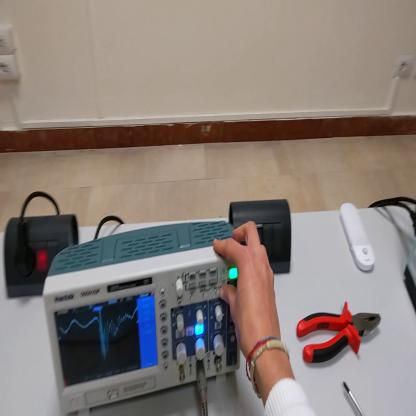hand: (214, 221, 284, 360)
oscilloscope: (47, 219, 243, 414)
pliers: (297, 304, 381, 369)
screwdriver-: (344, 383, 366, 414)
socket: (6, 210, 81, 301)
welder station: (403, 217, 416, 314)
